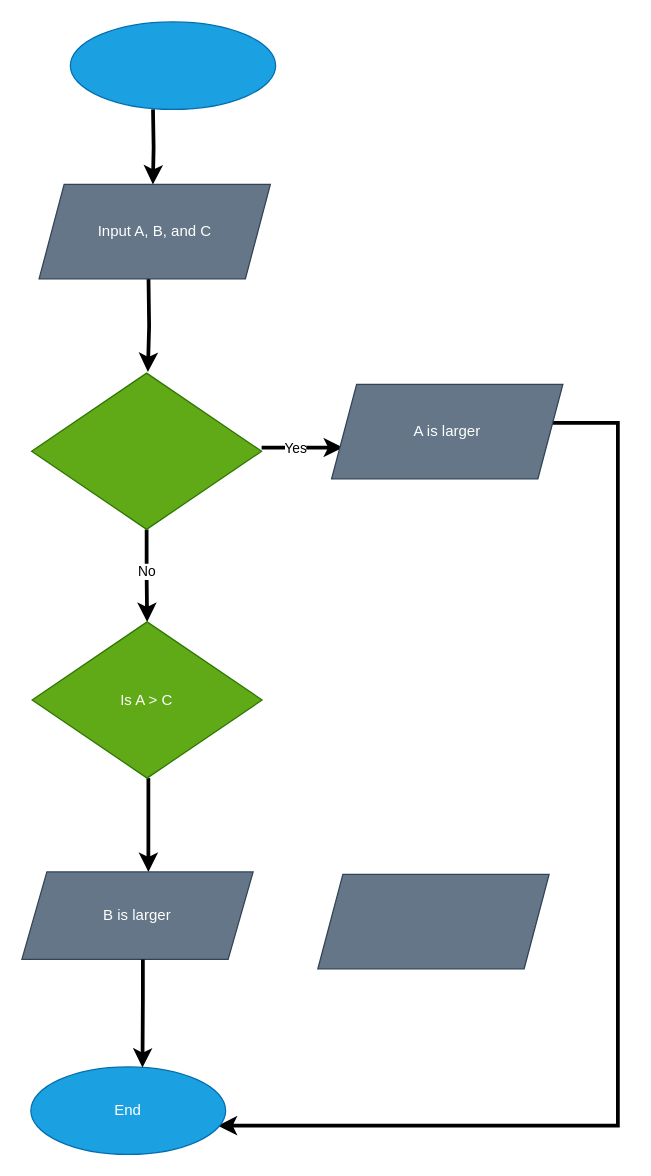
This 651x1176 diagram has some shape labels left out. Each missing label, with the centre of its shape:
"C is larger" belongs at pixel 433 921.
"Is A > B?" belongs at pixel 146 450.
"Start" belongs at pixel 172 65.
